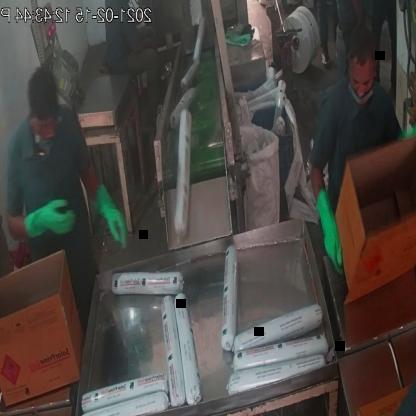glove: (21, 181, 80, 252), (313, 164, 348, 278), (90, 174, 128, 263)
